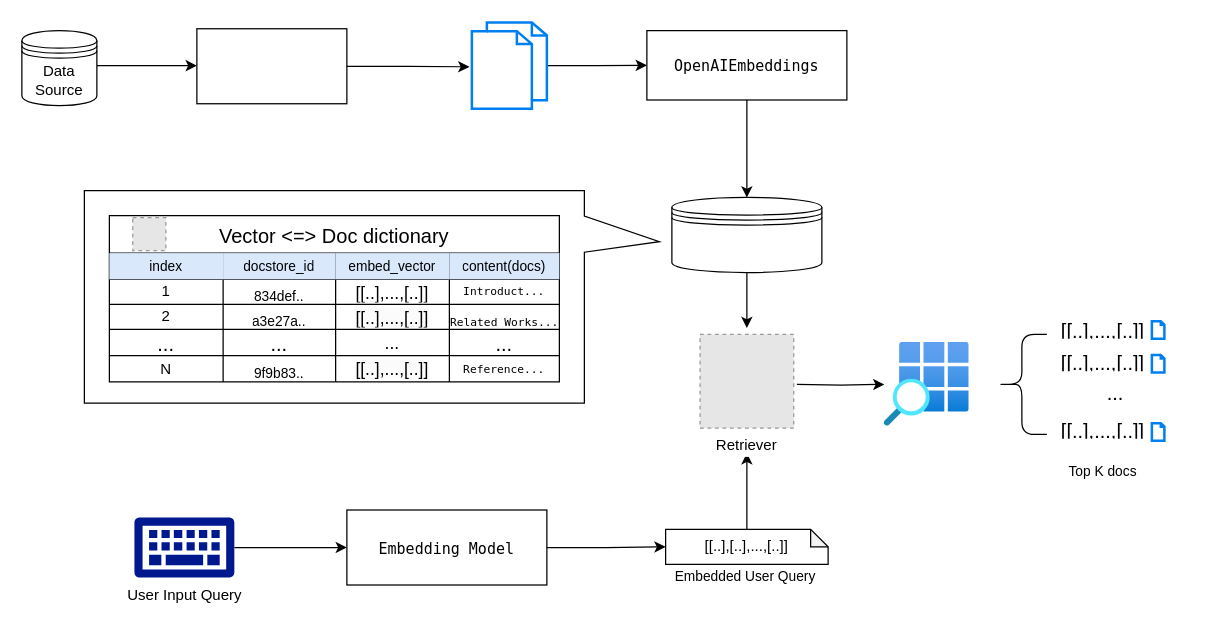
The diagram is 1211 pixels wide and 625 high, and some of its shapes have lost their labels. Grey dashed boxes stand in for pictures. The shapes that lost their labels are listed below. From the top down, each one's box as (x1, y1, x2, y2) in pixels, then its label:
(196, 28, 347, 104): Loader
(470, 21, 548, 109): List(Document)
(671, 196, 822, 272): v ectorStore
(884, 342, 969, 426): Similarity Search
